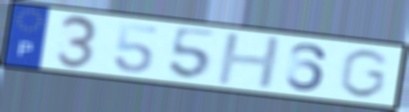3: (53, 13, 101, 71)
5: (166, 25, 221, 83), (112, 21, 160, 74)
6: (285, 42, 328, 93)
G: (335, 48, 392, 100)
H: (213, 32, 285, 90)
